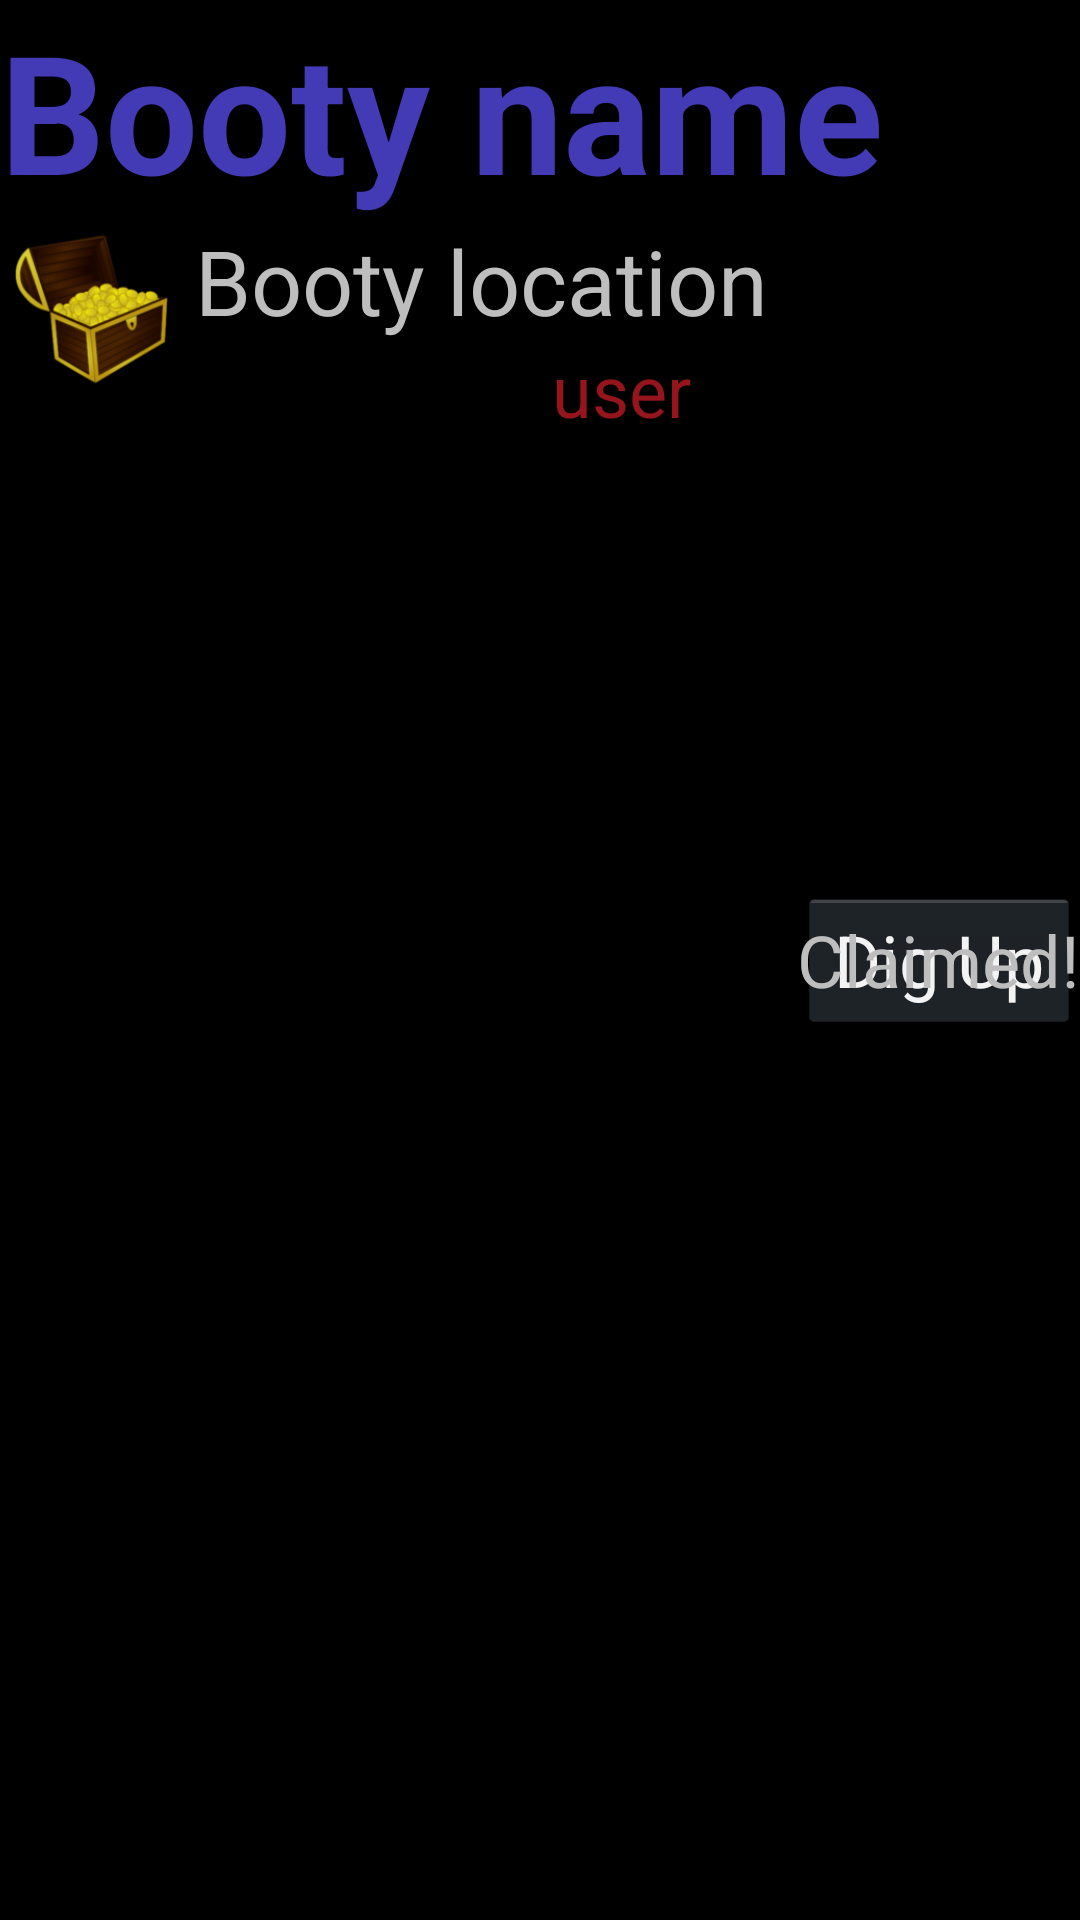

Named icons in this screenshot (1080px×1920px) and their centers, [x,y]:
Treasure Chest: [91,309]
